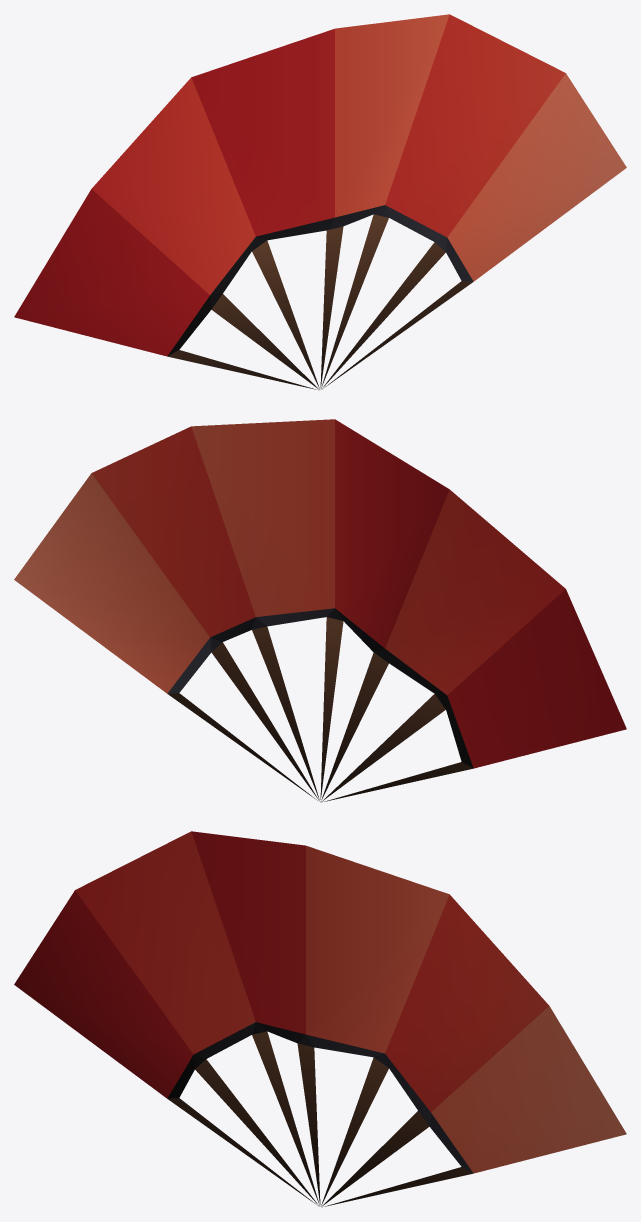
Rendered from SK_FoldingFan_001.FBX.
3 renders of one model, top to bottom at view 1: azimuth 30°, elevation 25°; view 2: azimuth 150°, elevation 25°; view 3: azimuth 330°, elevation 25°, orthographic.
Visible parts, largest first — view 1: SK_FoldingFan_001; view 2: SK_FoldingFan_001; view 3: SK_FoldingFan_001.
Boxes of the visible parts, bbox=[...] form: SK_FoldingFan_001: bbox=[14, 14, 626, 390]; SK_FoldingFan_001: bbox=[14, 419, 626, 802]; SK_FoldingFan_001: bbox=[14, 831, 626, 1207].
Size of the model in its own units: 69.24 by 40.24 by 2.86.
Materials: 1 (1 with a texture image).
